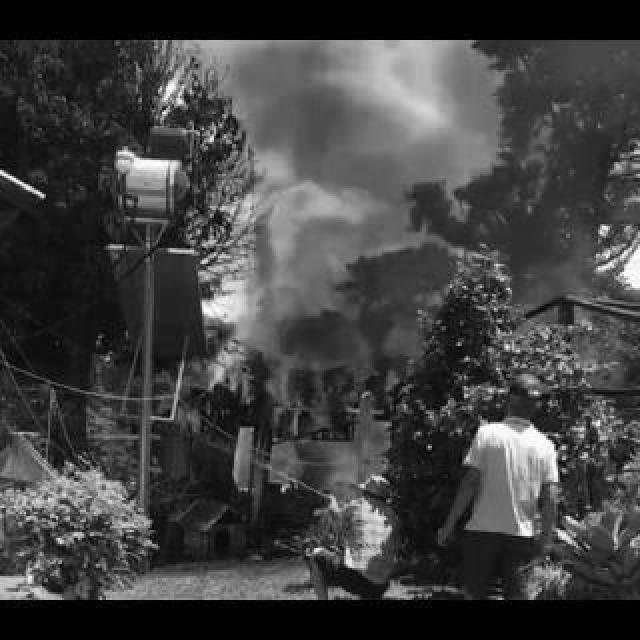Fire: (182, 212, 430, 484), (514, 282, 554, 326)
